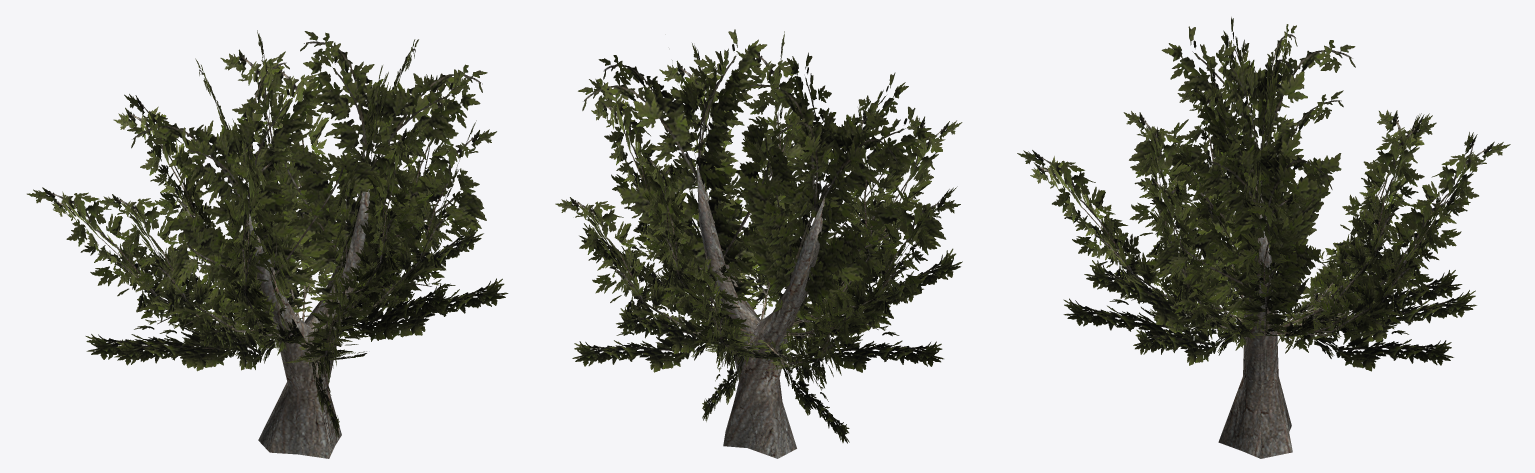
File: Sharp_Maple08.gltf
3 renders of one model, left to right at view 1: azimuth 30°, elevation 25°; view 2: azimuth 150°, elevation 25°; view 3: azimuth 270°, elevation 25°, orthographic.
Visible parts, largest first — view 1: Bfol, Afol, Trunk; view 2: Bfol, Afol, Trunk; view 3: Bfol, Afol, Trunk.
Boxes of the visible parts, bbox=[...] form: Bfol: bbox=[27, 30, 508, 437]; Afol: bbox=[127, 31, 487, 329]; Trunk: bbox=[245, 164, 370, 458]; Bfol: bbox=[555, 31, 962, 443]; Afol: bbox=[578, 29, 946, 321]; Trunk: bbox=[697, 164, 824, 458]; Bfol: bbox=[1017, 60, 1510, 371]; Afol: bbox=[1129, 17, 1355, 331]; Trunk: bbox=[1218, 149, 1292, 458].
Size of the model in its own units: 6.79 by 6.33 by 7.59.
2 materials, 2 textured.
